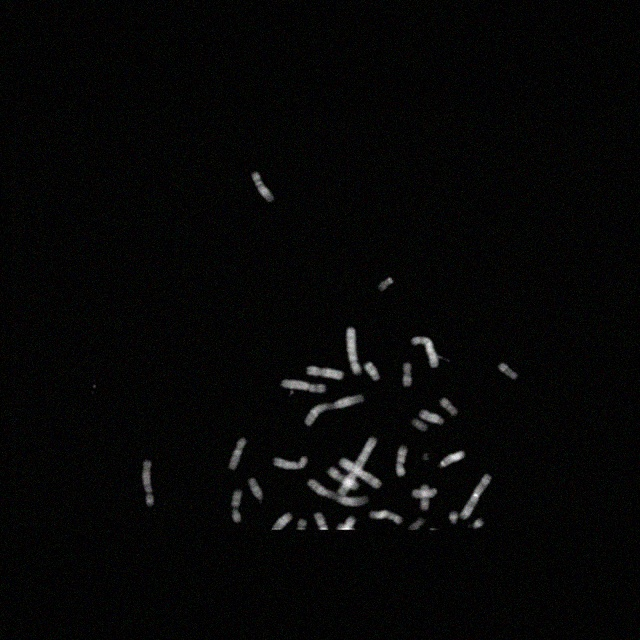chromosome: (339, 437, 377, 495), (306, 394, 364, 426), (307, 479, 369, 505), (461, 474, 492, 520), (338, 458, 382, 488), (412, 336, 438, 368), (346, 327, 362, 375), (252, 172, 274, 202), (328, 469, 358, 491), (142, 461, 156, 507), (229, 438, 247, 470), (280, 380, 326, 392), (306, 366, 344, 380), (440, 450, 466, 468), (274, 456, 308, 469), (371, 510, 402, 524), (420, 409, 444, 426), (231, 491, 244, 522), (249, 478, 265, 500), (440, 398, 458, 417), (397, 446, 408, 476), (272, 513, 292, 529), (499, 364, 517, 381), (364, 362, 380, 381), (402, 362, 412, 388), (412, 488, 436, 498), (409, 420, 429, 432), (421, 484, 429, 510), (378, 278, 394, 290), (448, 512, 458, 524), (472, 520, 483, 528)
